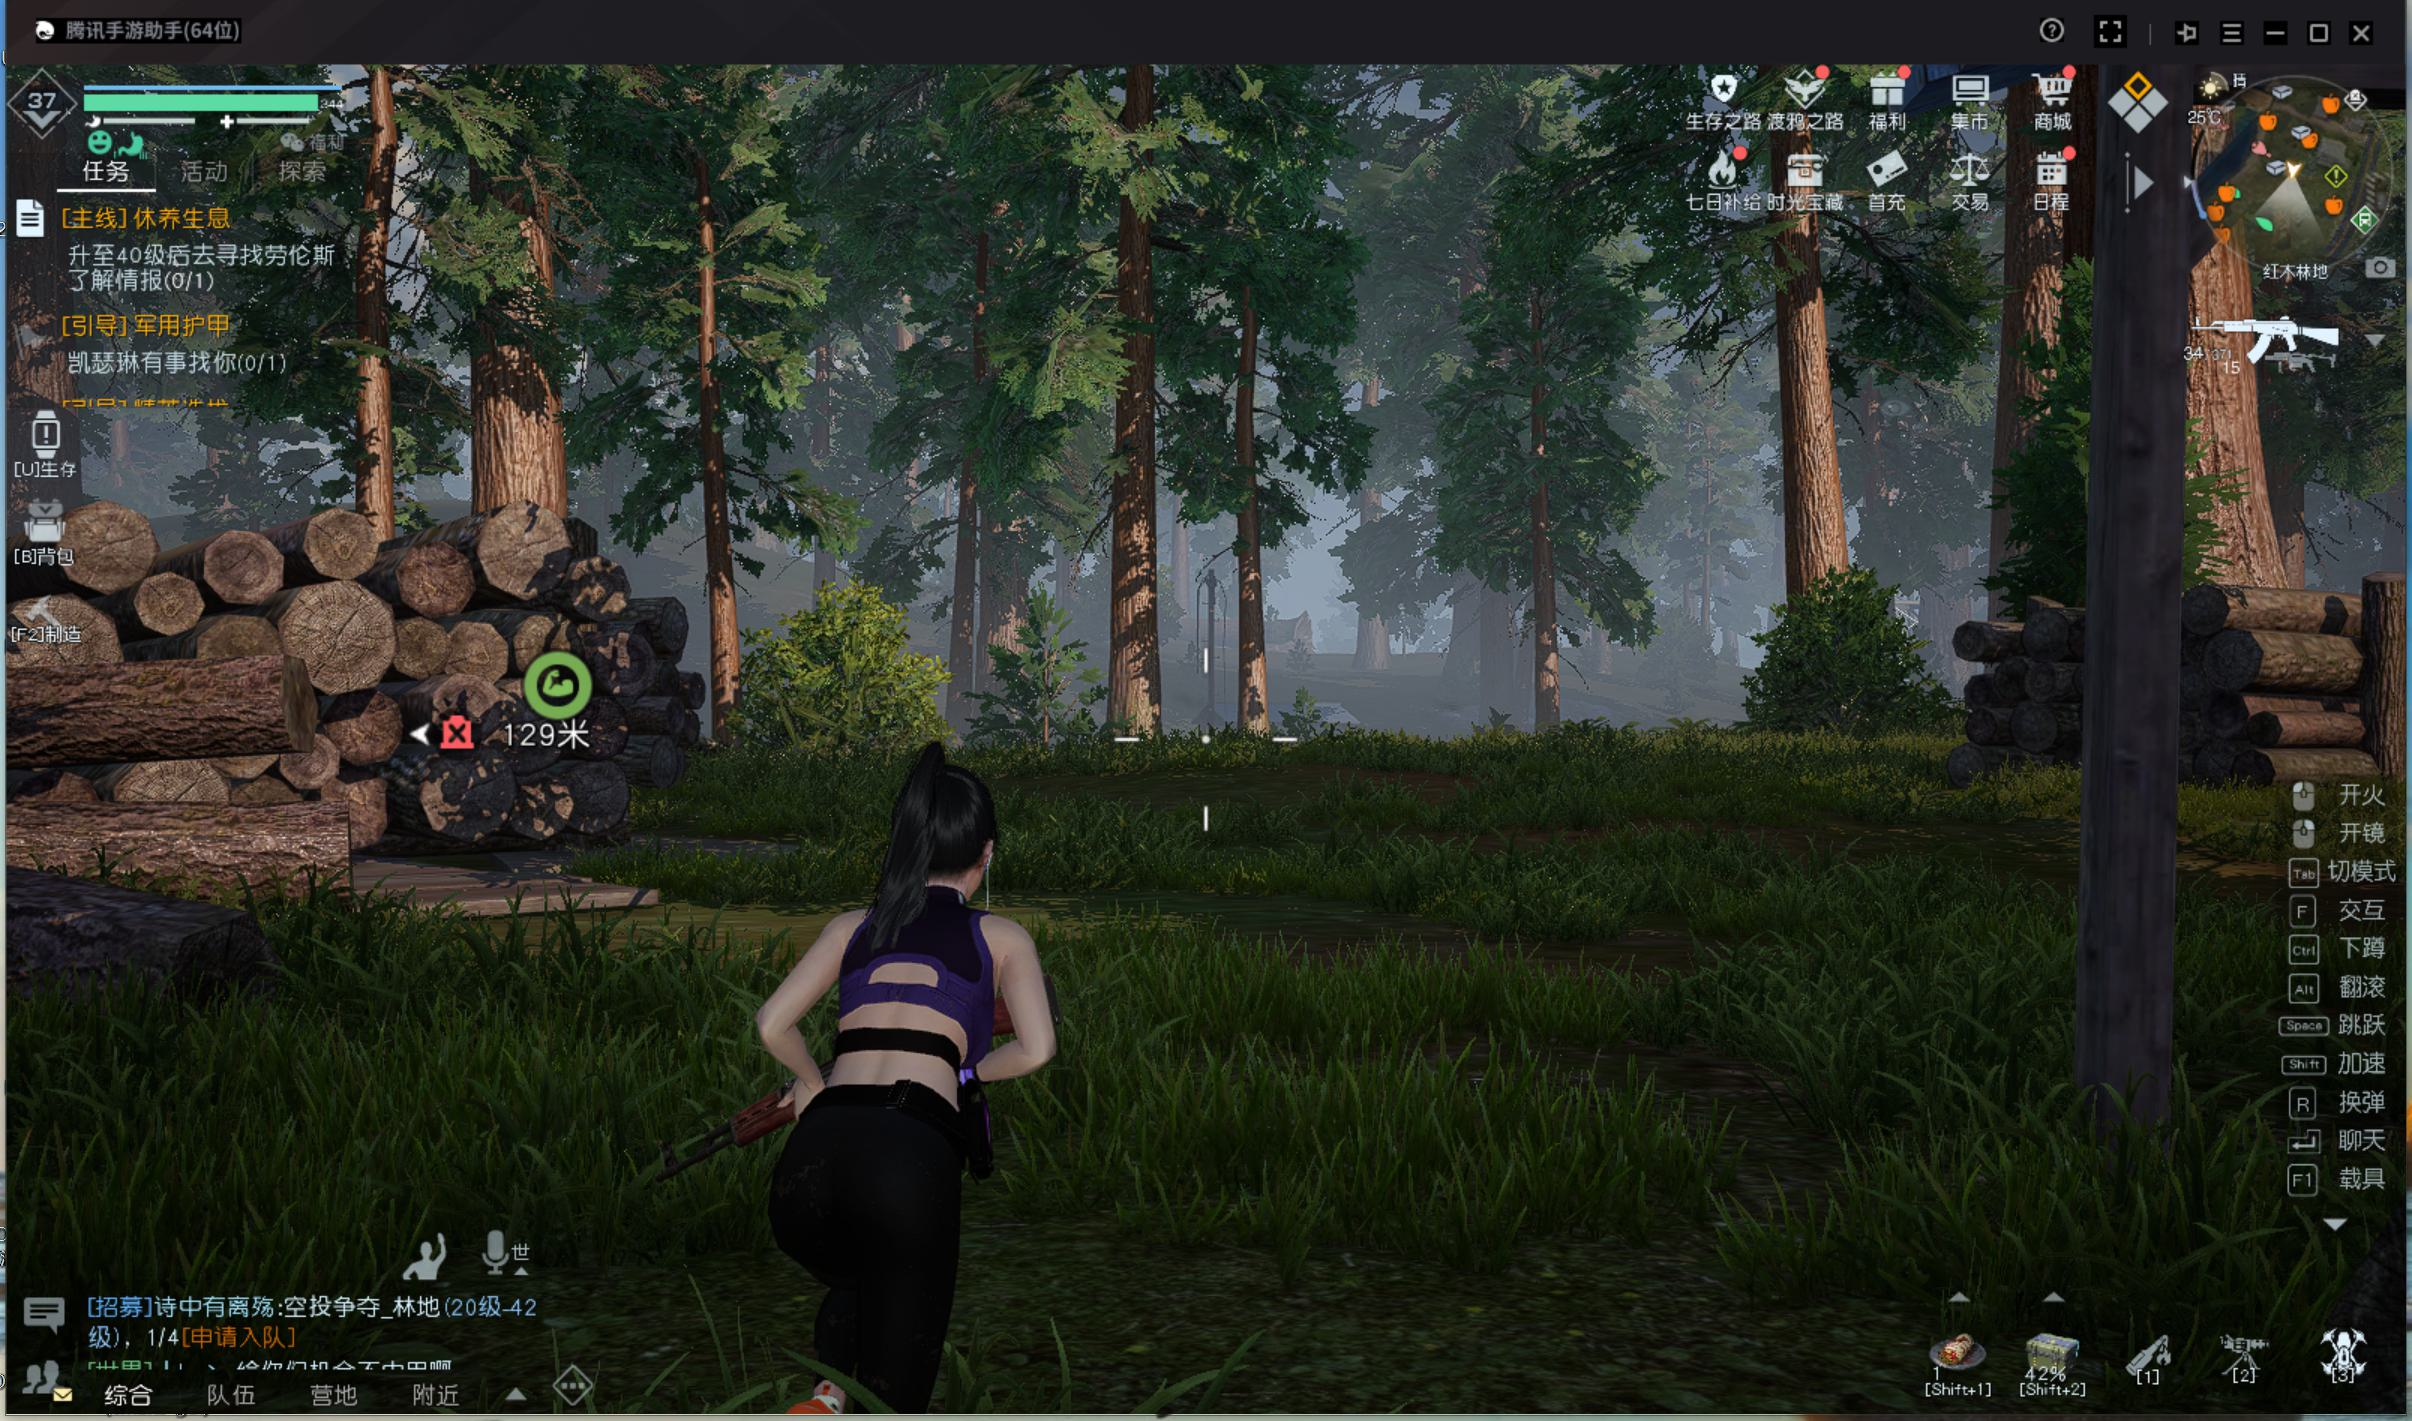tree: (678, 249, 748, 770), (1768, 342, 1856, 712), (1091, 401, 1160, 761), (981, 374, 1033, 765), (1225, 398, 1272, 754), (1521, 479, 1566, 754), (942, 381, 973, 770)
